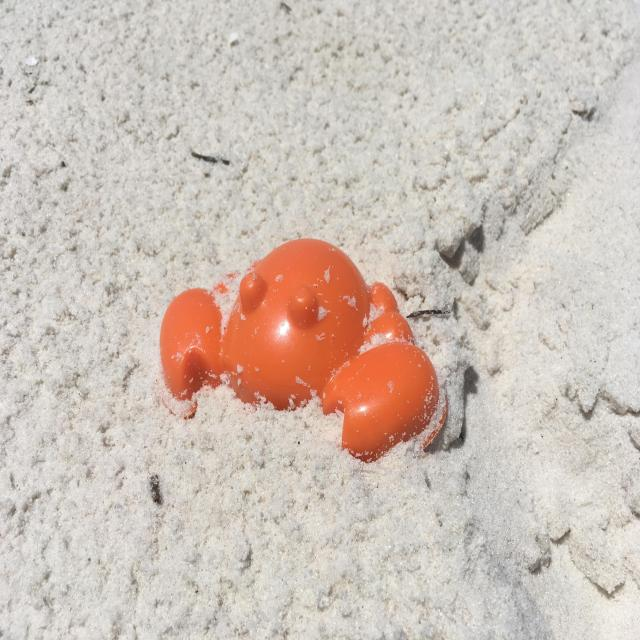litter: (192, 173, 482, 397)
